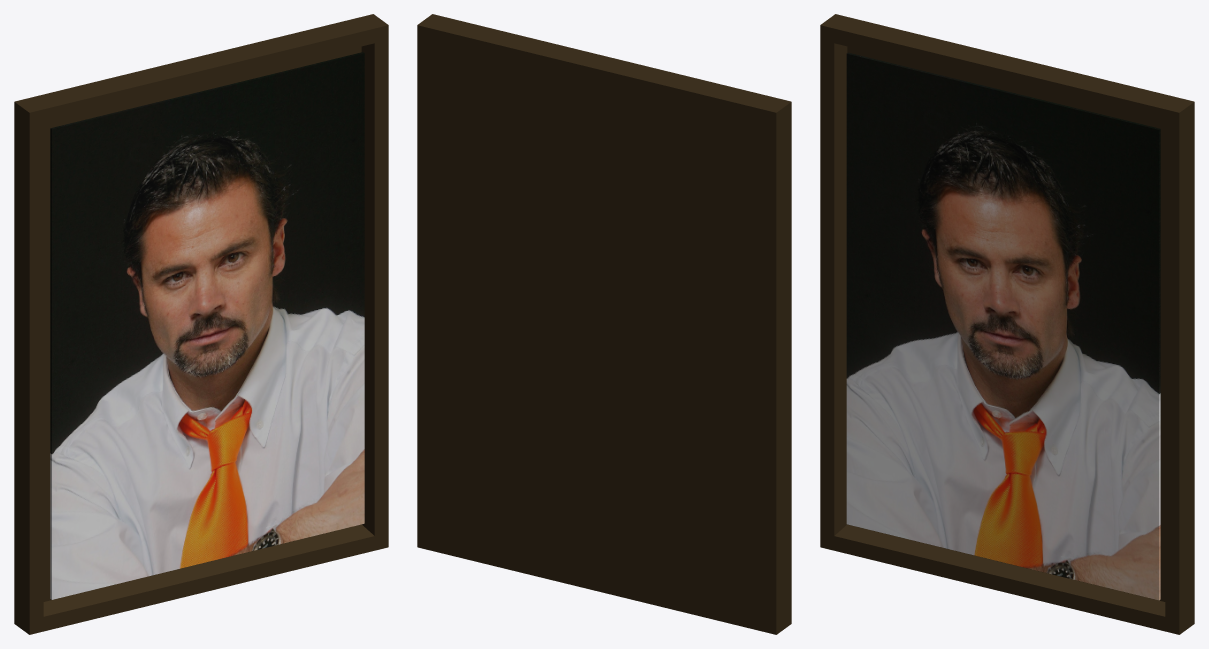
Rendered from cuadrofelipito.fbx.
The picture shows the model from 3 angles, left to right: view 1: azimuth 30°, elevation 25°; view 2: azimuth 150°, elevation 25°; view 3: azimuth 330°, elevation 25°; orthographic projection.
Parts seen in each view (by area): view 1: Plane, marco; view 2: marco; view 3: Plane, marco.
Boxes of the visible parts, x1,y1,x2,y2 form: Plane: [50, 52, 364, 599]; marco: [14, 14, 388, 634]; marco: [417, 14, 791, 634]; Plane: [846, 52, 1160, 600]; marco: [820, 14, 1194, 634].
Bounding box in the file's own units: 453 × 629 × 33.34.
